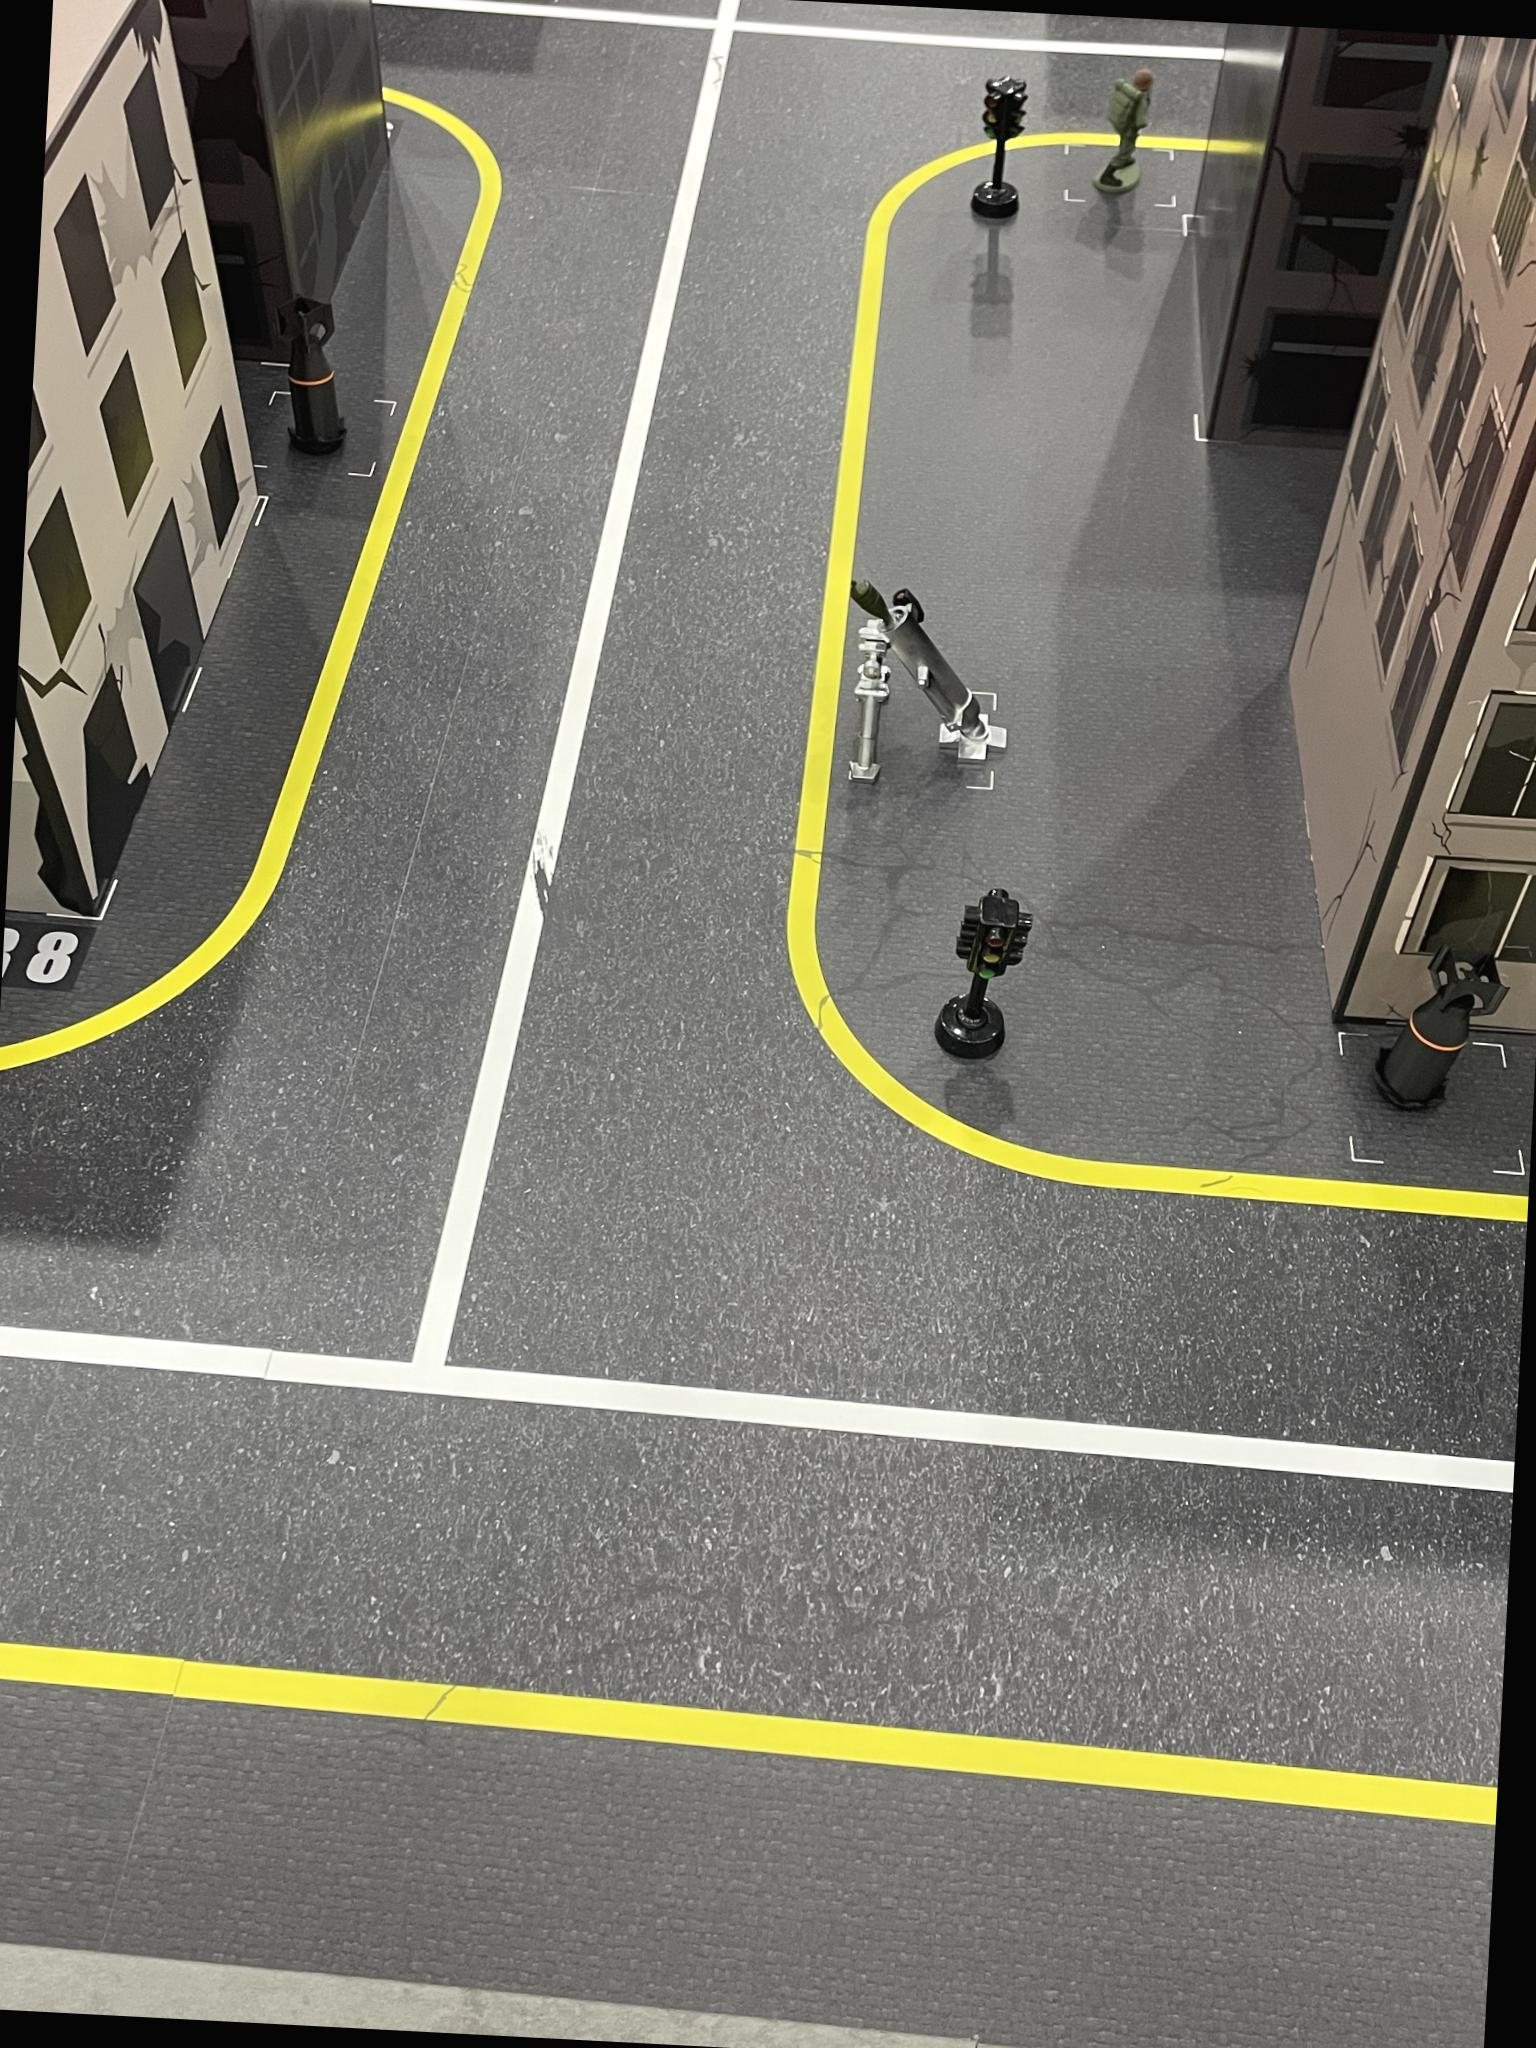Enemy: (1087, 69, 1163, 205)
Missile: (1362, 935, 1518, 1121), (269, 289, 360, 469)
Mortar: (833, 581, 1021, 801)
